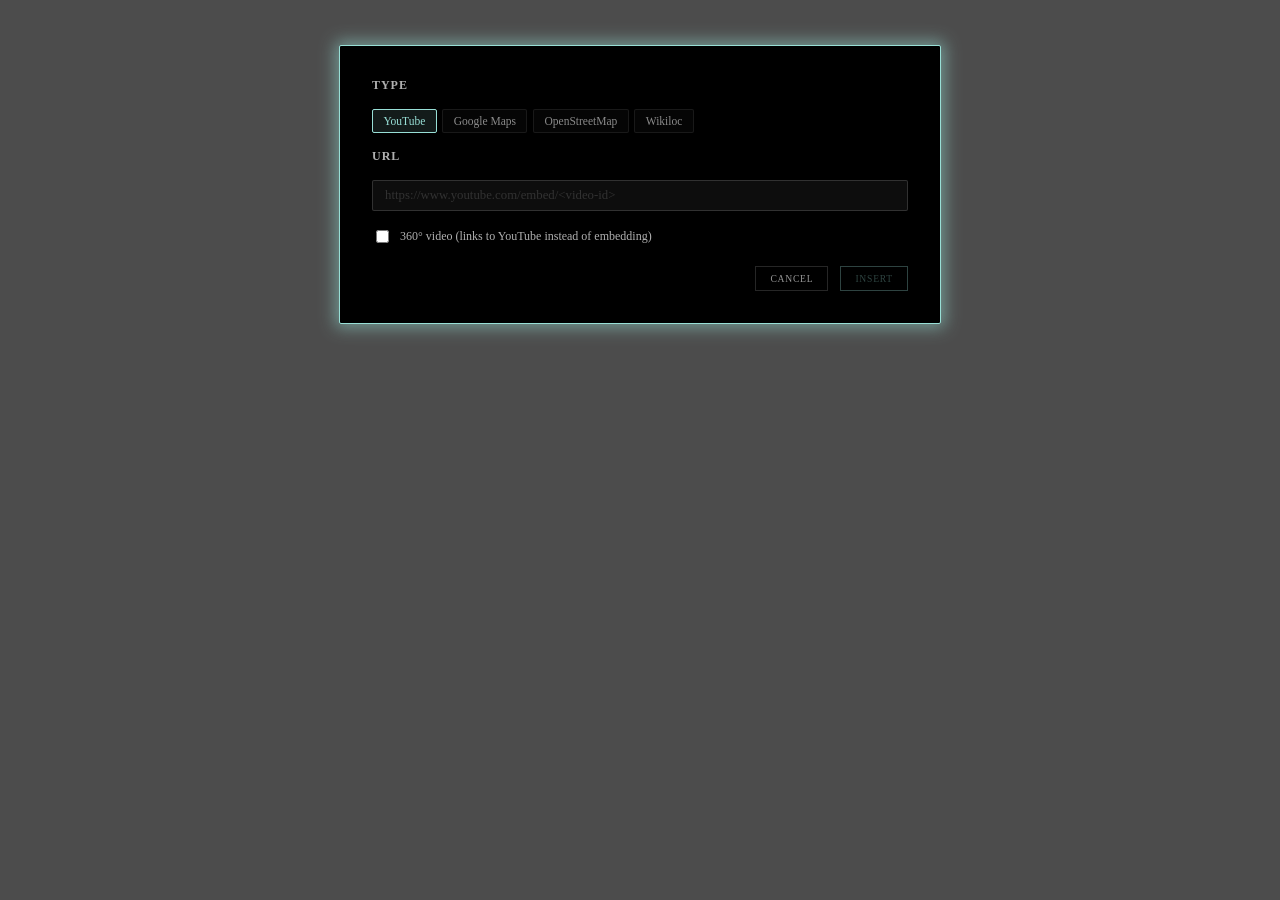
Test: EmbedInsertModal › resets state after insert
The image size is (1280, 900).
Click the button with test id "embed-type-maps": x=485, y=121 [442,109,528,133]
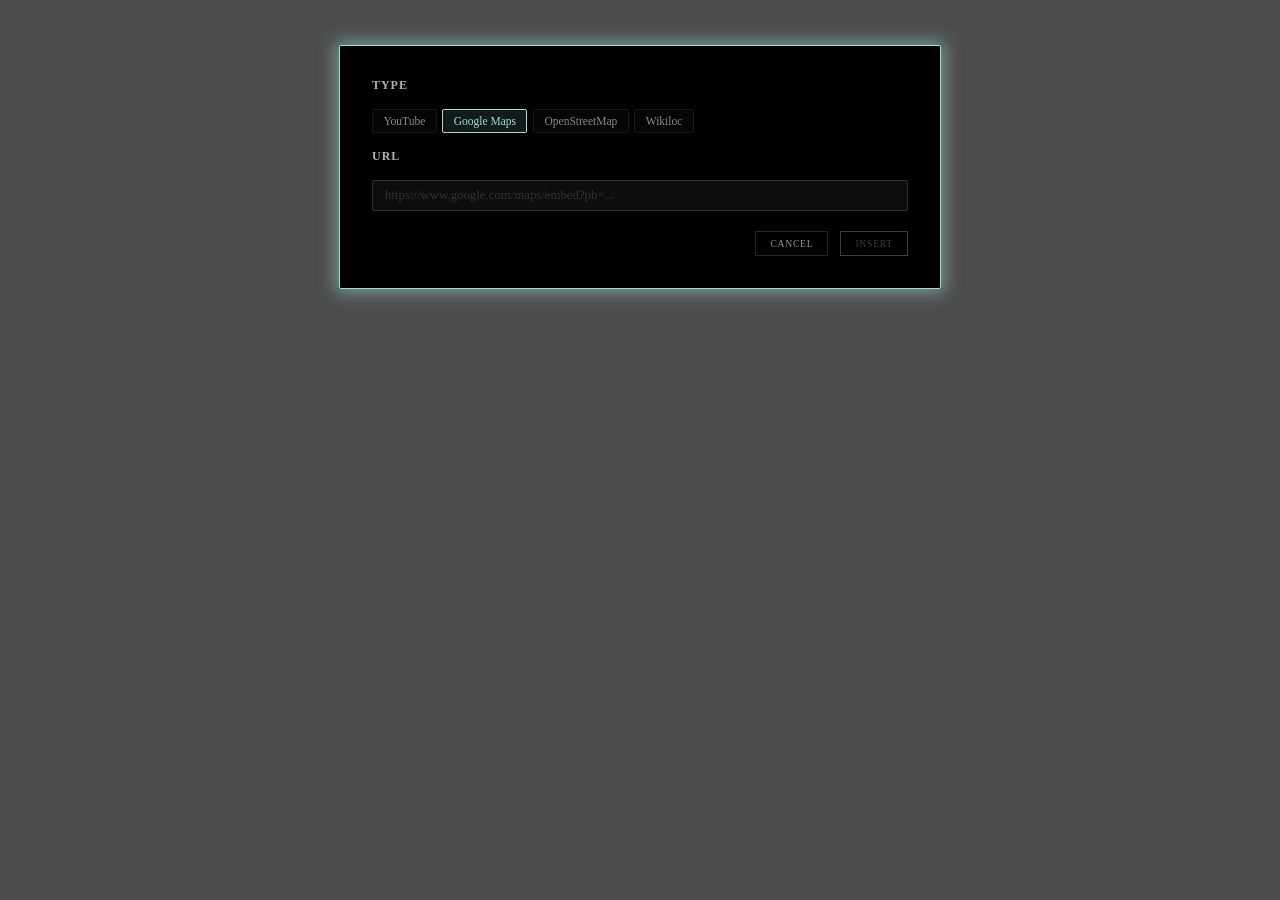
In the field with test id "embed-url-input": x=640, y=195 [372,180,908,211], type "https://maps.example.com"
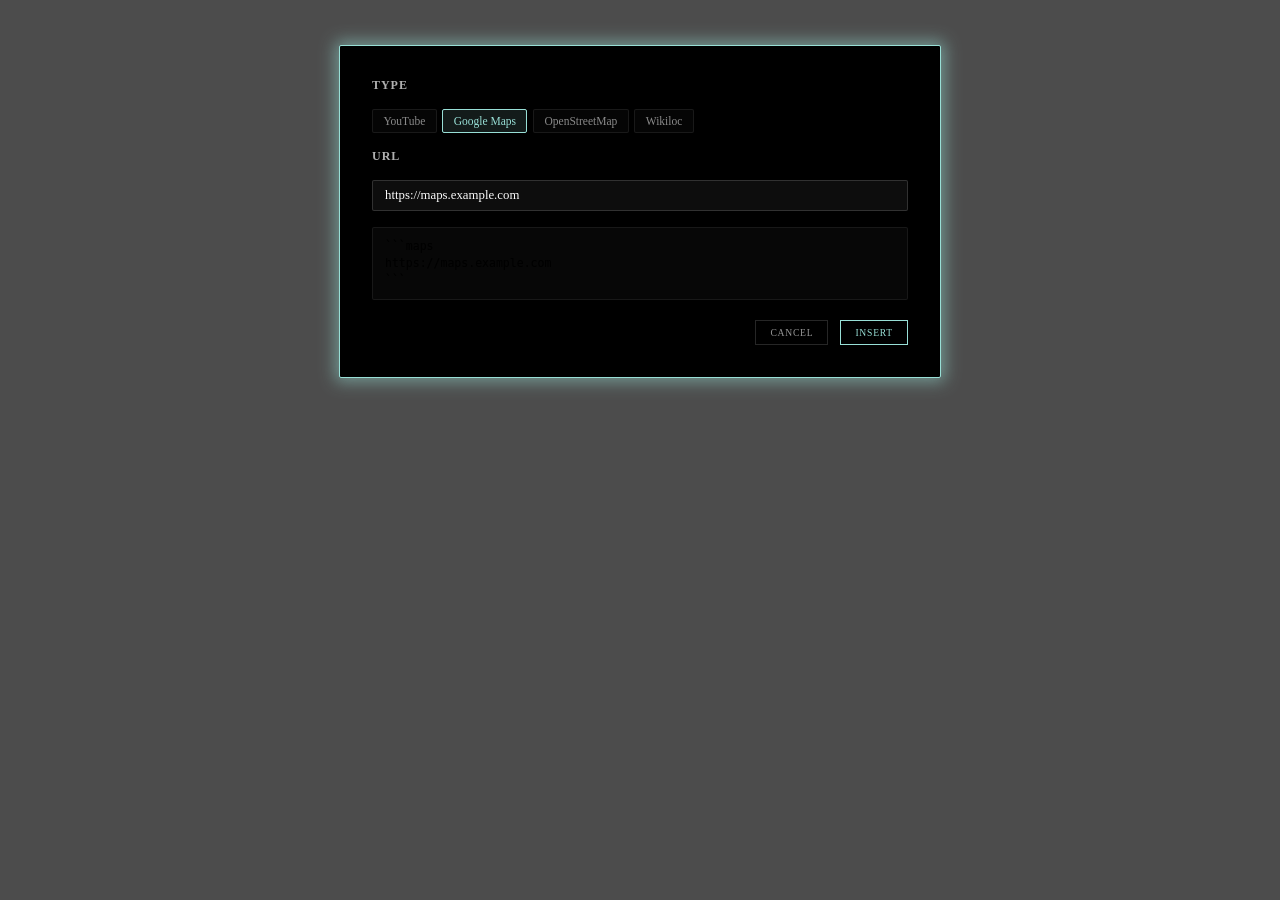
Click the button with test id "embed-modal-insert": x=874, y=332 [840,320,908,345]
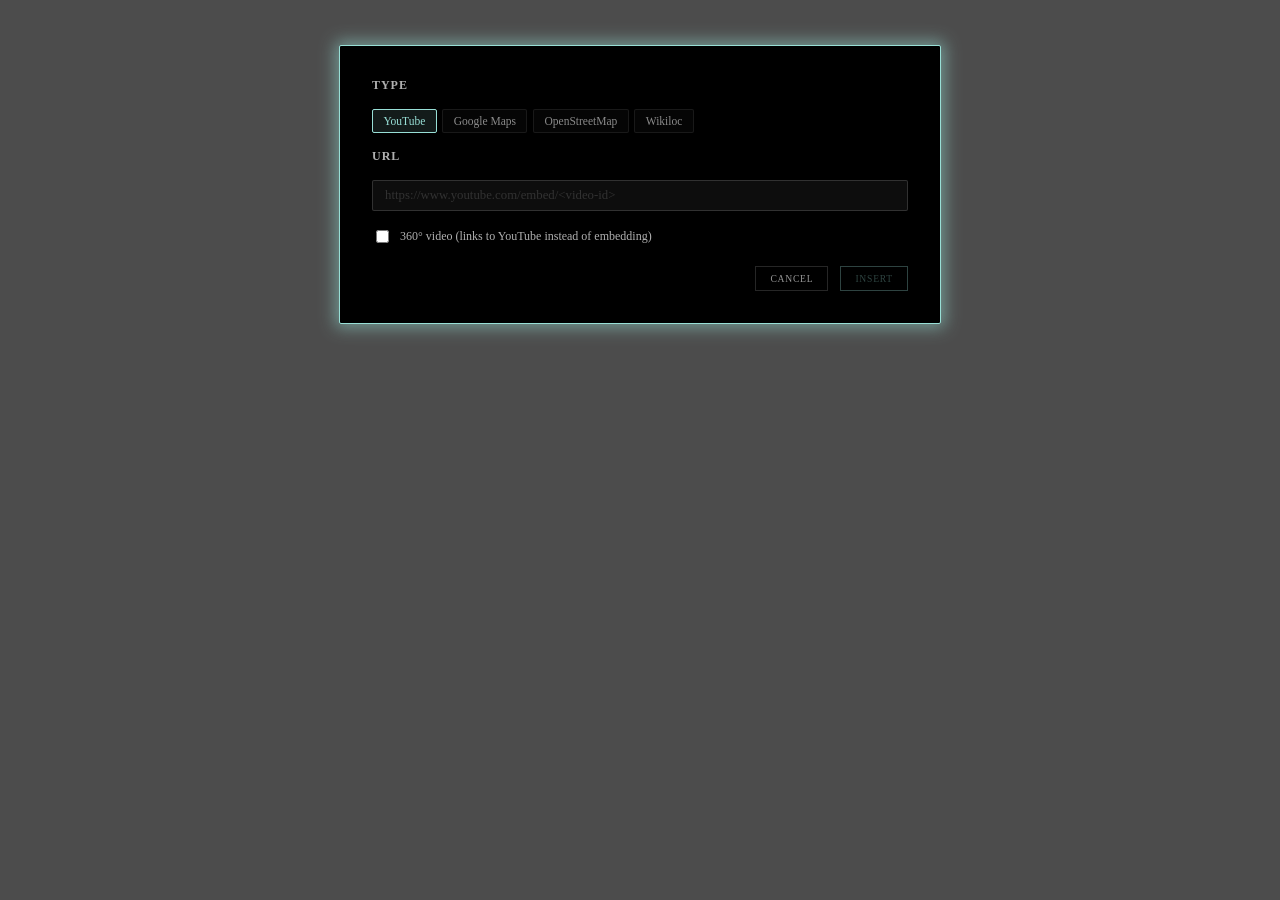
Check: the field with test id "embed-url-input" is empty, box [372,180,908,211]
Check: the text with test id "embed-preview" is gone
